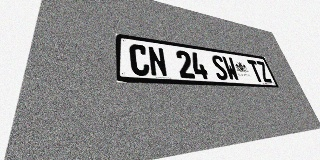2: (175, 50, 195, 79)
4: (189, 52, 209, 79)
C: (129, 43, 150, 76)
N: (147, 46, 168, 77)
S: (210, 54, 229, 80)
T: (247, 59, 264, 82)
W: (221, 56, 240, 81)
Z: (255, 61, 273, 83)
